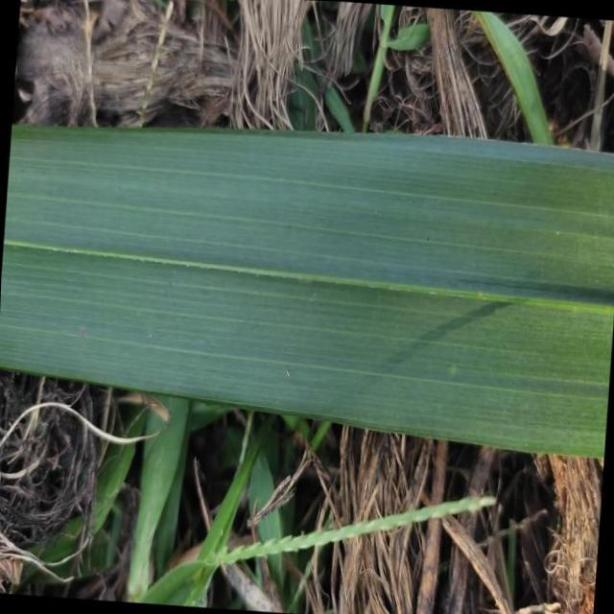Healthy: (3, 127, 614, 456)
